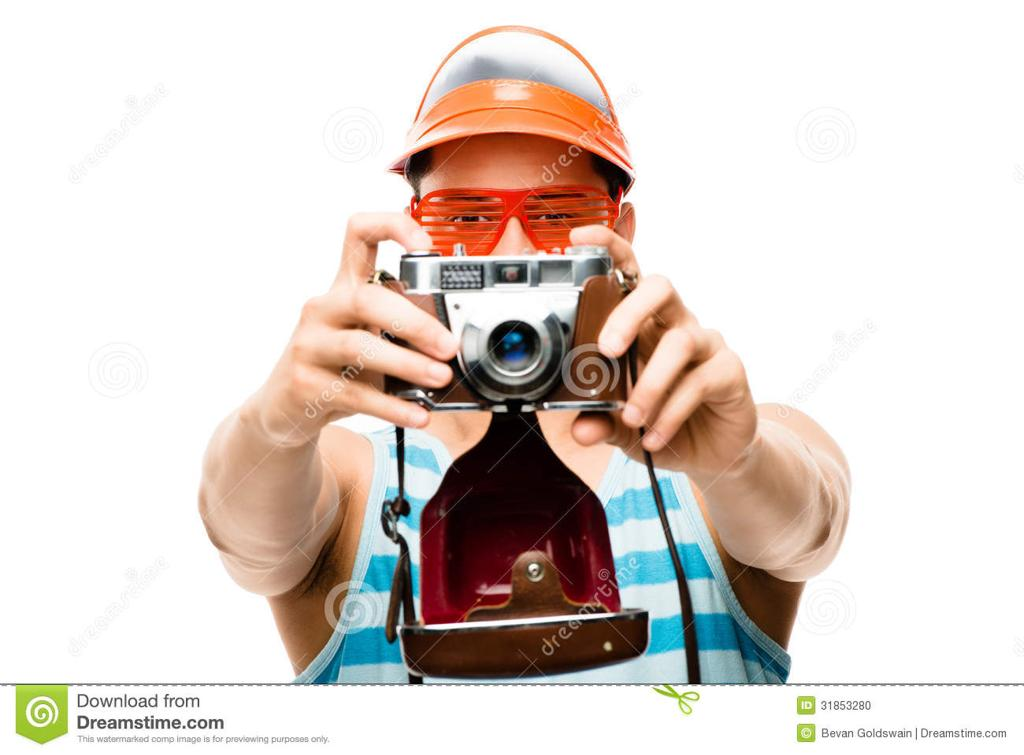face: (416, 122, 602, 372)
